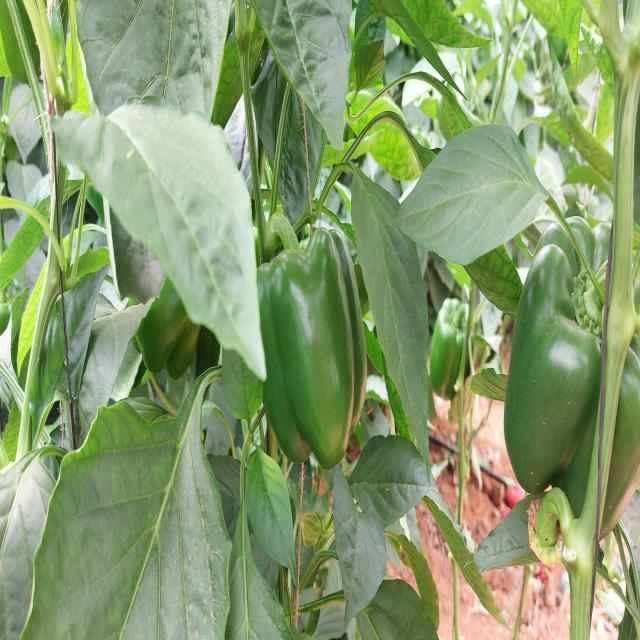Green--Not-ready-to-harvest: (508, 200, 640, 568), (111, 117, 216, 387), (254, 224, 367, 467), (215, 106, 218, 146)
